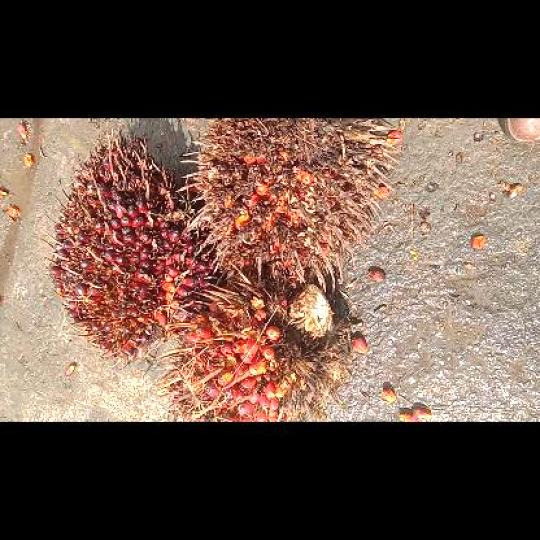masak: (43, 128, 214, 363), (156, 262, 353, 421)
terlalu masak: (176, 118, 400, 292)
